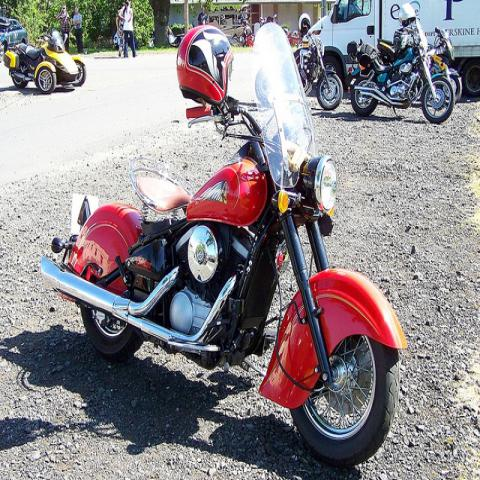car: (0, 14, 29, 54), (172, 32, 186, 44)
motorcycle: (36, 15, 408, 461), (351, 13, 452, 125), (255, 24, 344, 112), (378, 25, 464, 103), (4, 31, 87, 95)
truck: (310, 0, 480, 97)
